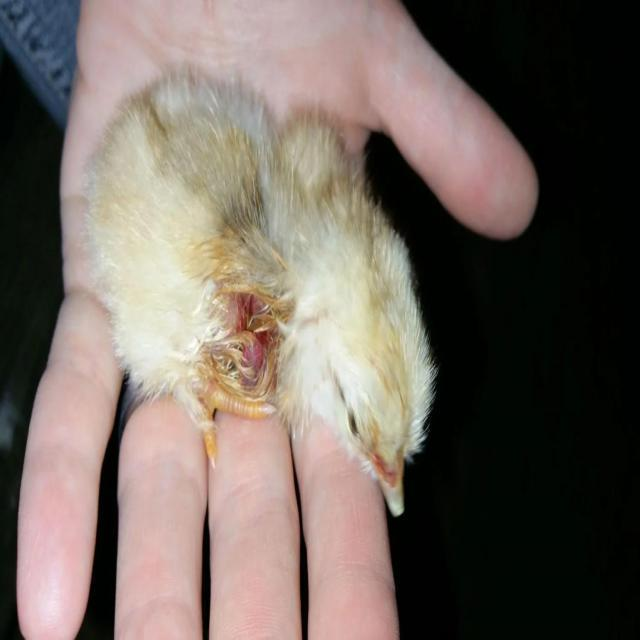poussin: (75, 64, 440, 519)
